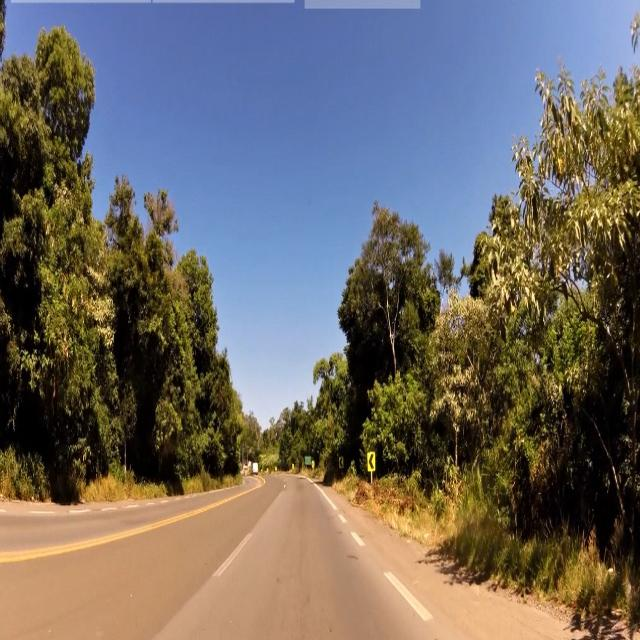Del: (366, 450, 376, 472)
